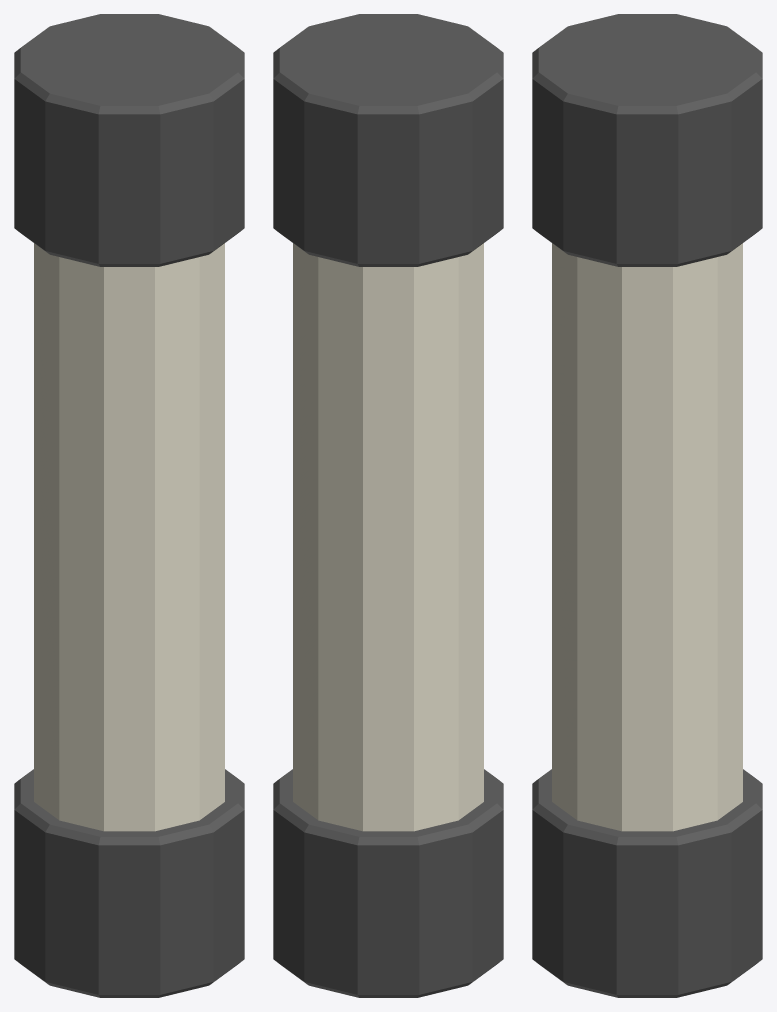
The model's file is prop_fusion_core.glb.
3 views of the same model, side by side, from view 1: azimuth 30°, elevation 25°; view 2: azimuth 150°, elevation 25°; view 3: azimuth 270°, elevation 25° (orthographic).
Parts seen in each view (by area): view 1: fusible; view 2: fusible; view 3: fusible.
Boxes of the visible parts, x1=… form: fusible: x1=14, y1=14, x2=244, y2=997; fusible: x1=273, y1=14, x2=503, y2=997; fusible: x1=532, y1=14, x2=762, y2=997.
Bounding box in the file's own units: 0.0046 × 0.0197 × 0.0046.
